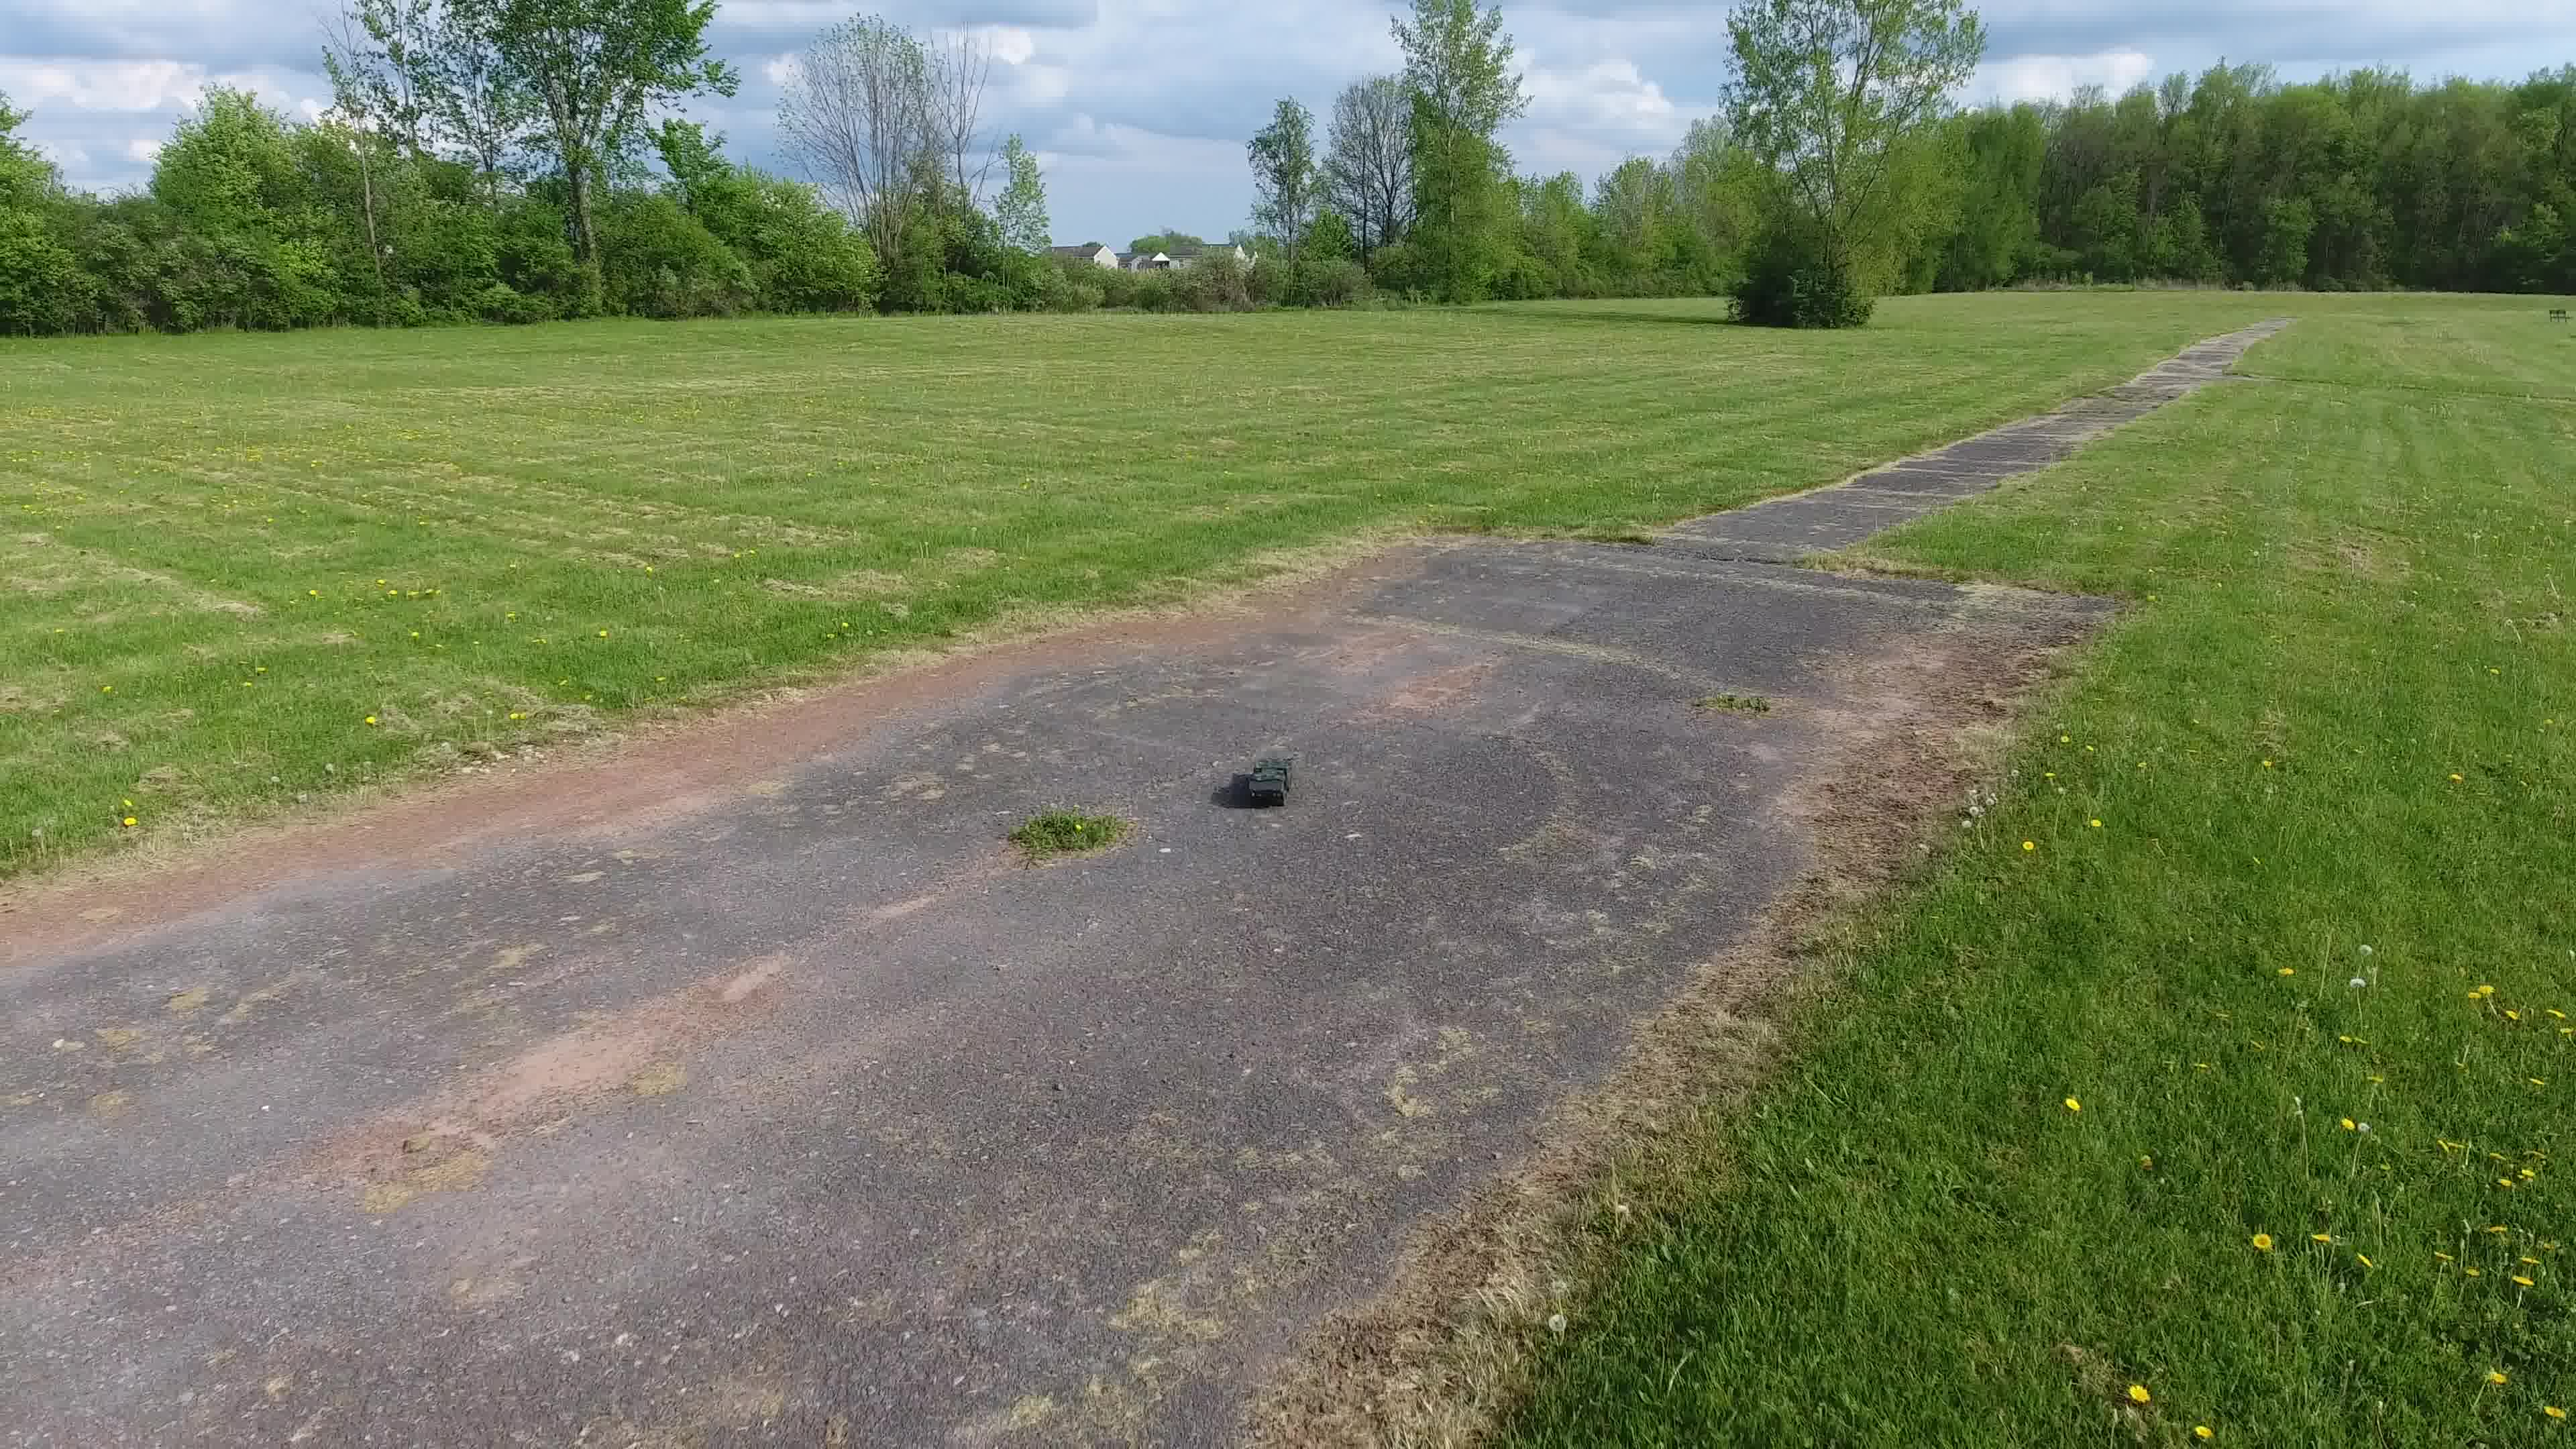transporter9_camo: (1242, 757, 1295, 809)
